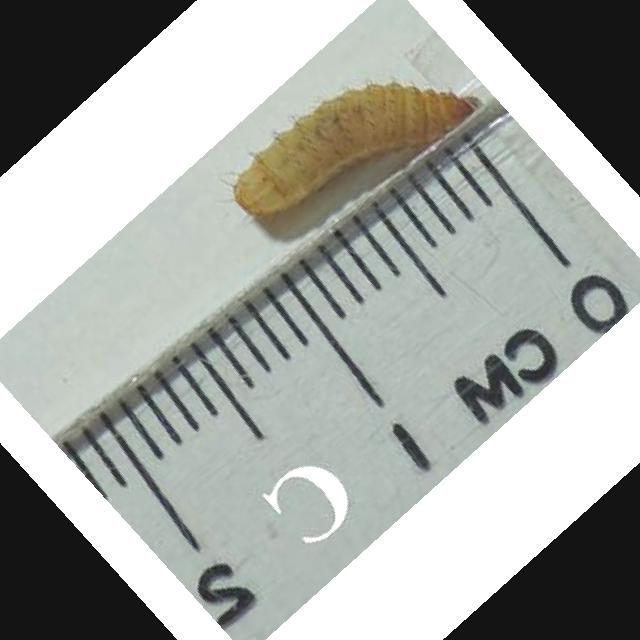Maggot: (234, 85, 481, 224)
